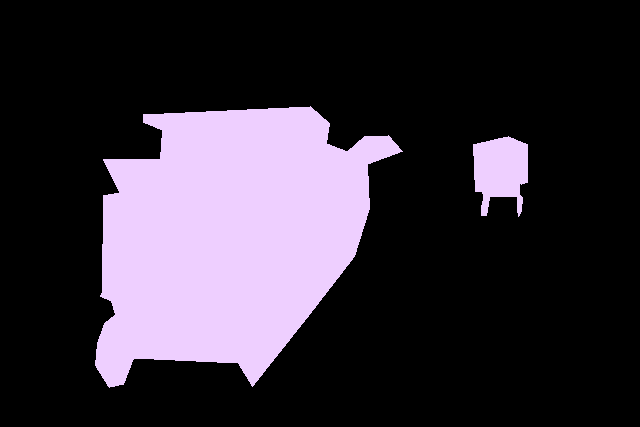Train: (95, 106, 402, 388), (473, 136, 528, 216)
